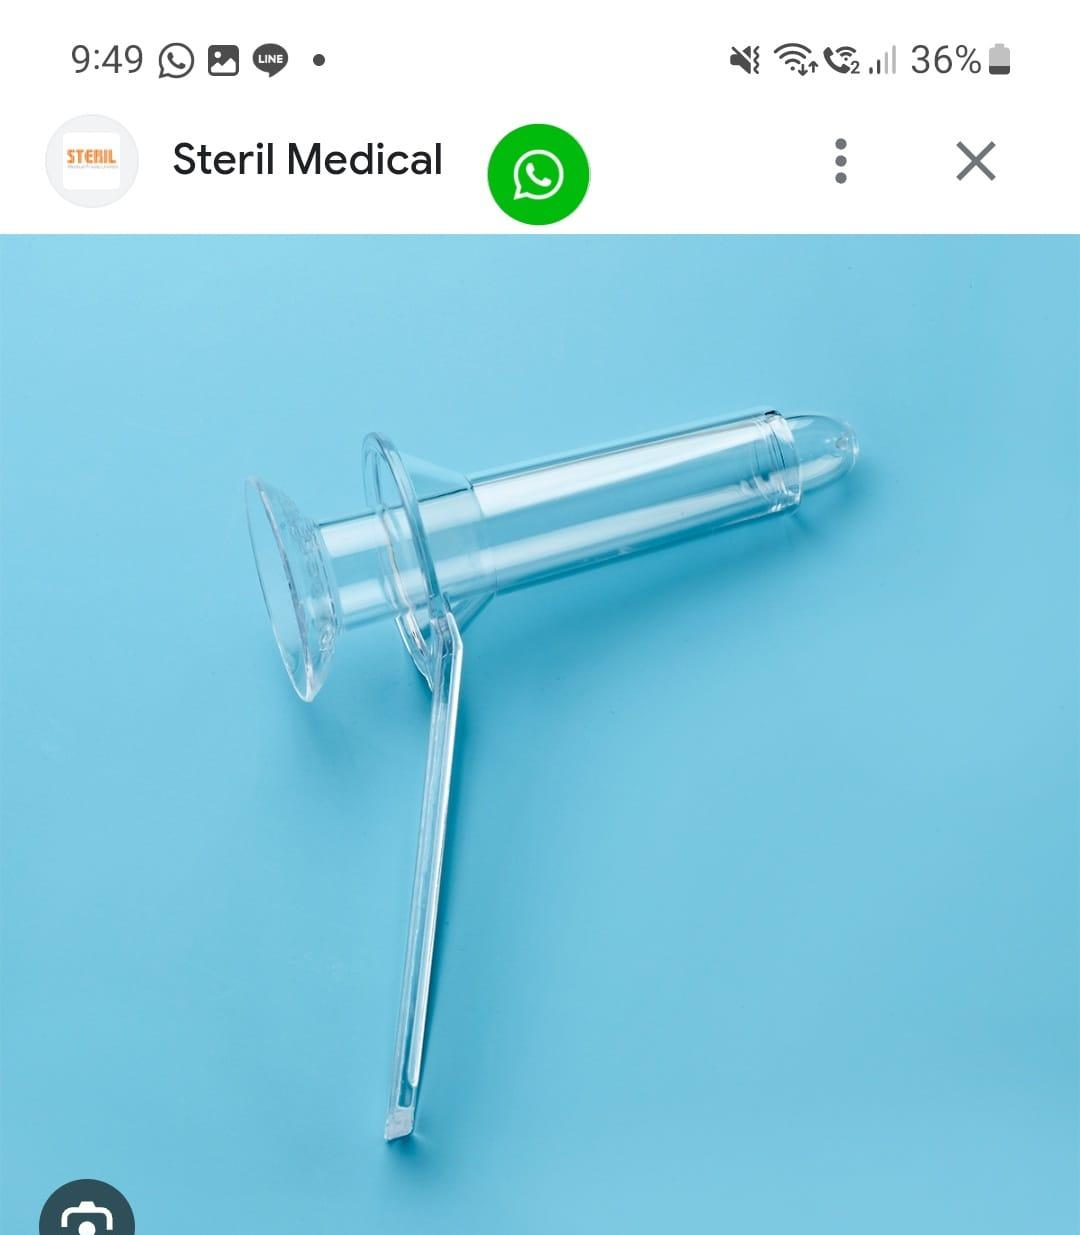Protoscope: (180, 386, 874, 1161)
